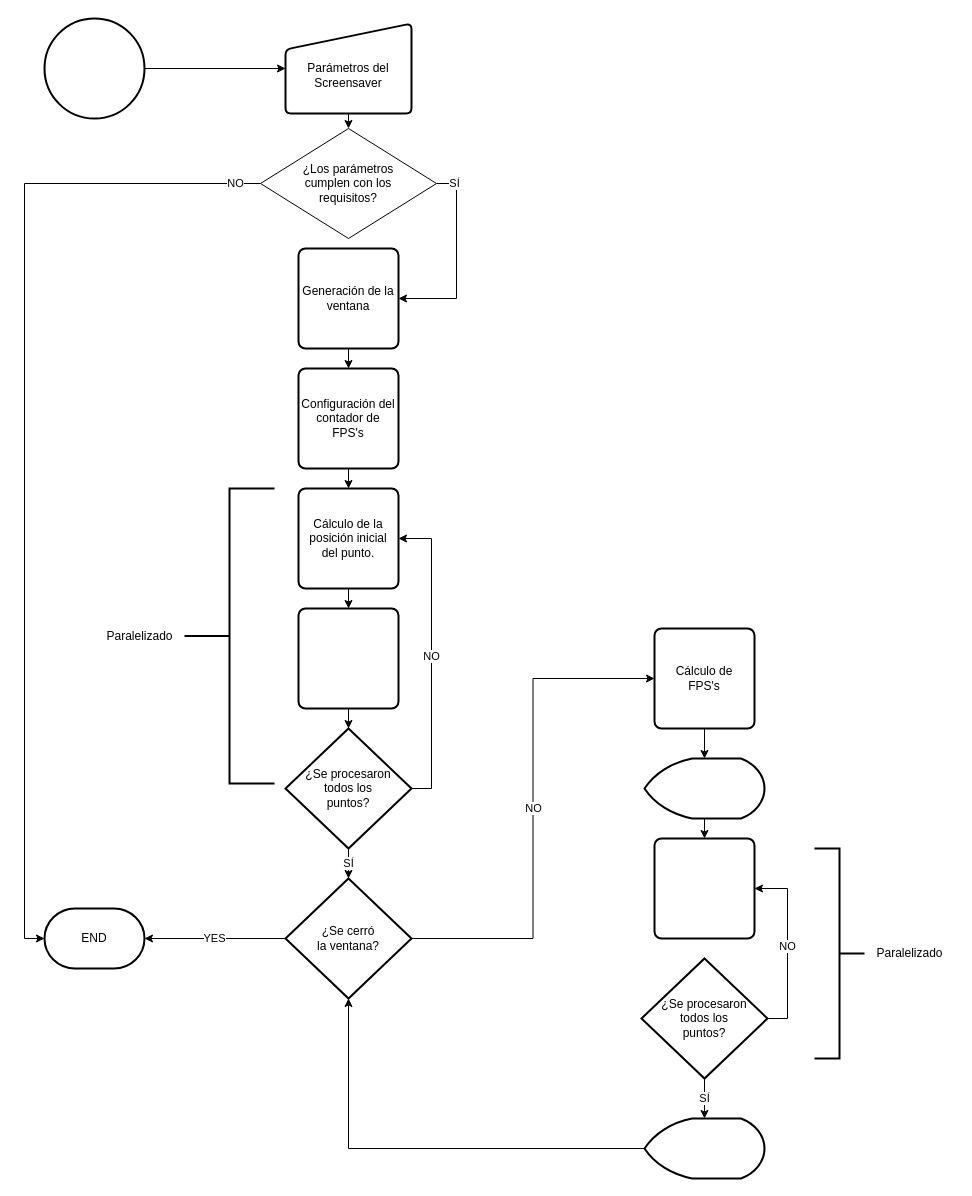
Image size: 972x1196. Some labels were removed from this diagram. Each missing label, with the centre of its shape:
"Configurar el color del punto" goes at [348,658].
"Cálculo de la nueva posición del punto" goes at [704,888].
"Mostrar la nueva posición" goes at [704,1148].
"Mostrar la pantalla en negro + FPS's" goes at [704,788].
"START" goes at [94,68].
